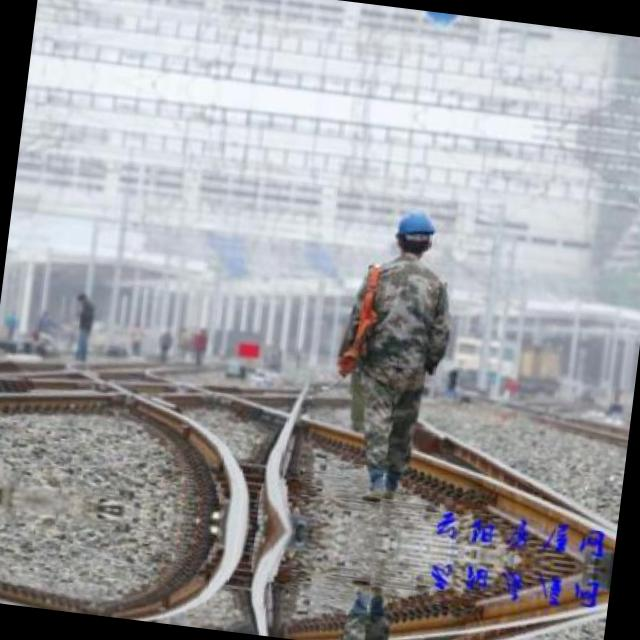helmet: (390, 205, 439, 258), (418, 10, 464, 32)
